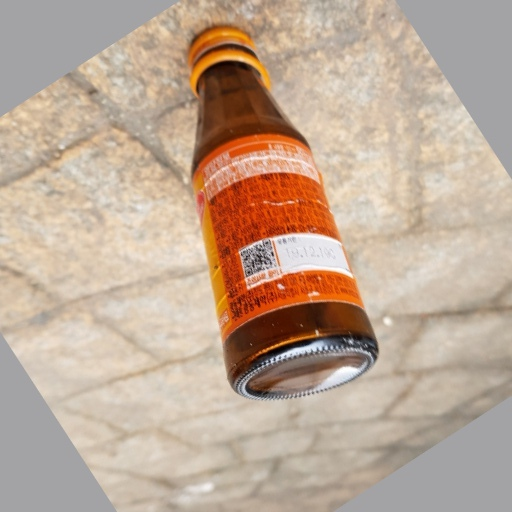Glass_3: (187, 25, 384, 403)
